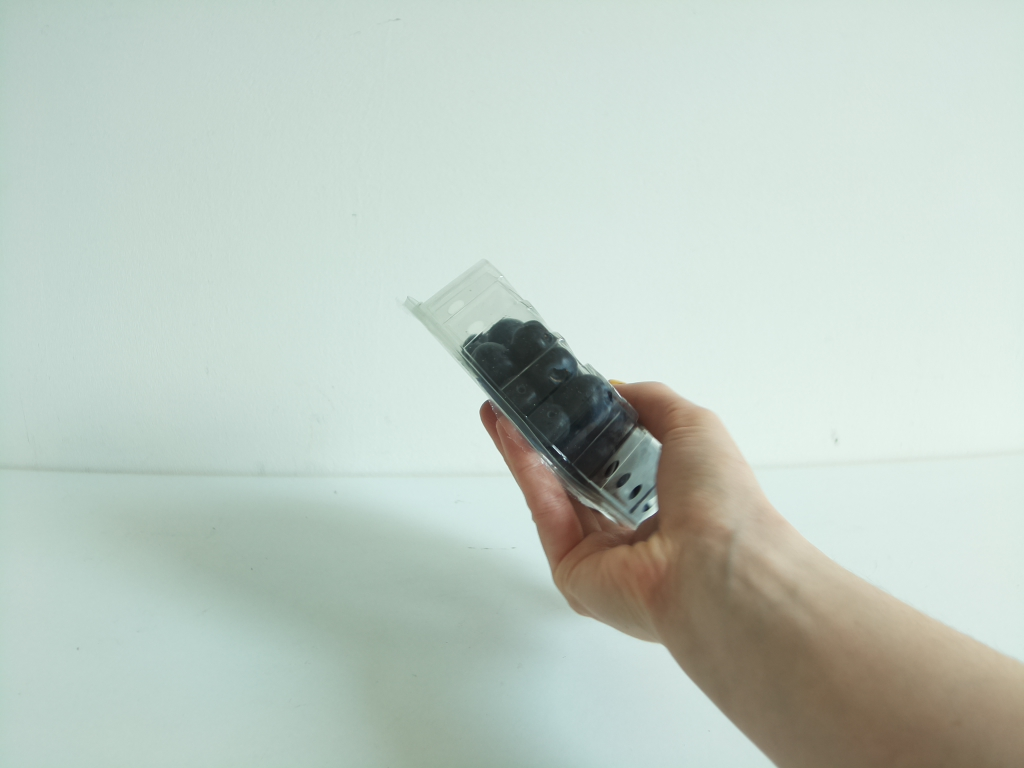soft-fruit: (408, 256, 670, 533)
